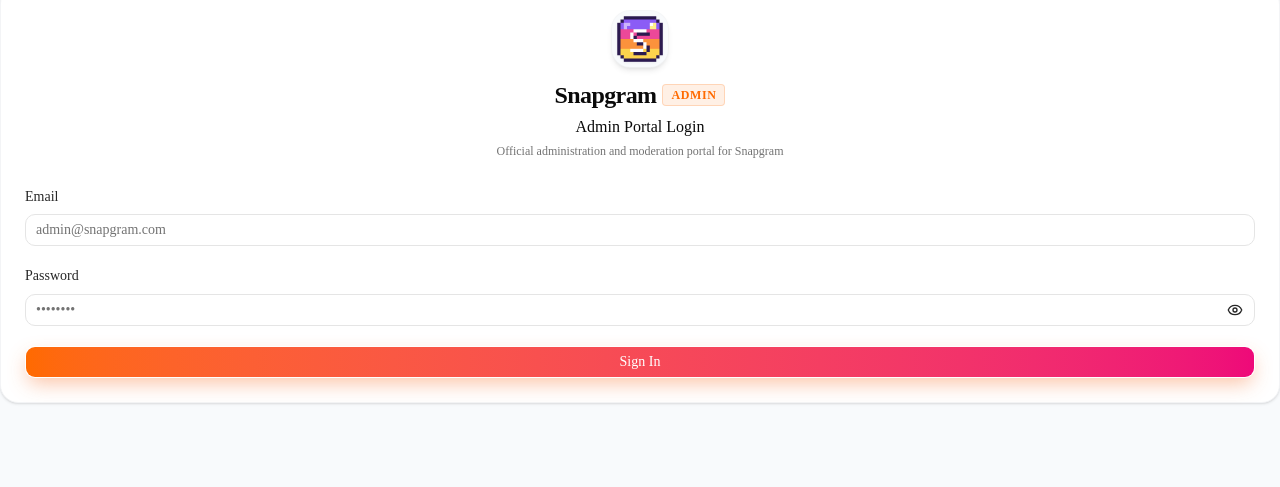
Test: LoginForm › shows a lockout alert with a countdown when the account is locked
In the field labelled "Email": (640, 230) left=25, top=214, right=1255, bottom=246, type "admin@snapgram.dev"
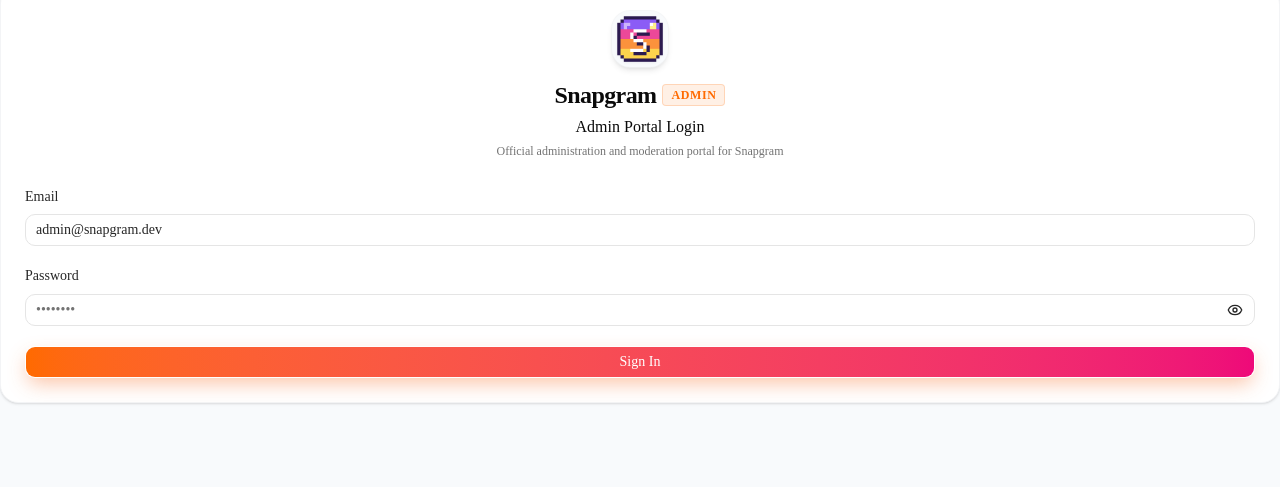
In the password field with placeholder "••••••••": (640, 310) left=25, top=294, right=1255, bottom=326, type "password"
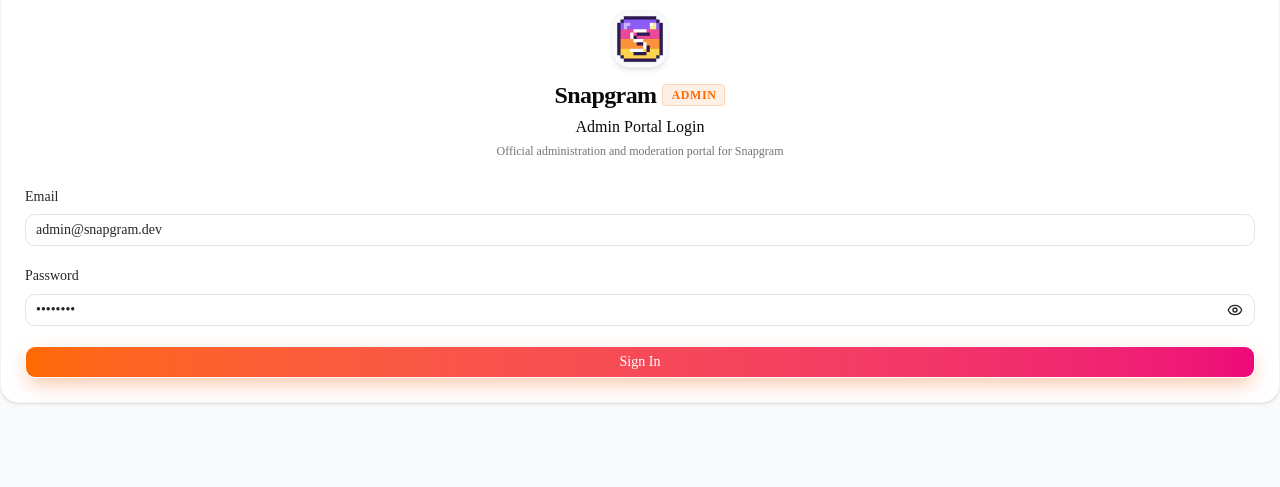
Click the button "Sign In": (640, 362) left=25, top=346, right=1255, bottom=378
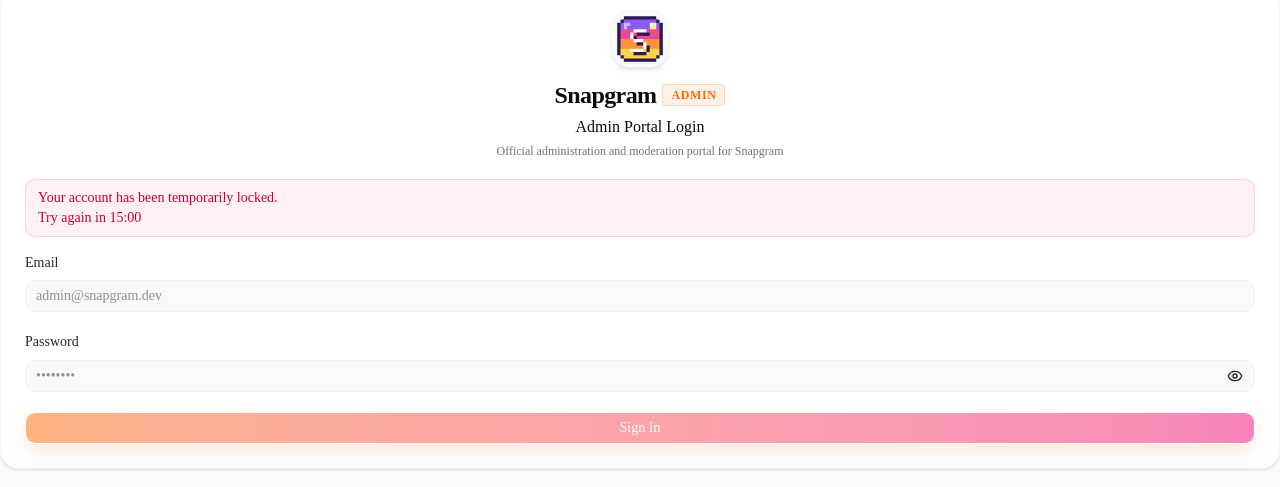
Expected: the message "Your account has been temporarily locked. Try again in 15:00" is shown, left=25, top=179, right=1255, bottom=237
Expected: the text "Try again in 15:00" is shown, left=38, top=210, right=141, bottom=225
Expected: the button "Sign In" is disabled, left=25, top=412, right=1255, bottom=444
